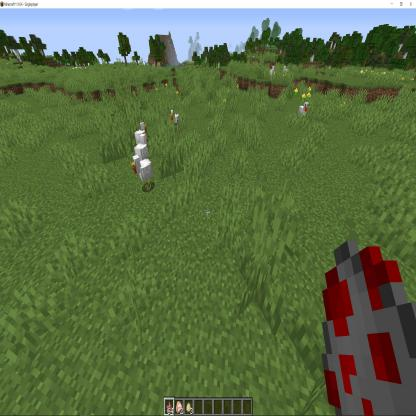minecraft-pigs: (133, 158, 155, 190), (169, 108, 183, 132), (136, 136, 150, 159), (298, 98, 310, 124), (134, 122, 145, 141), (270, 65, 276, 81)
